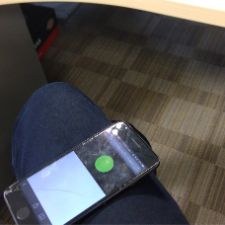focus: (92, 152, 116, 176)
